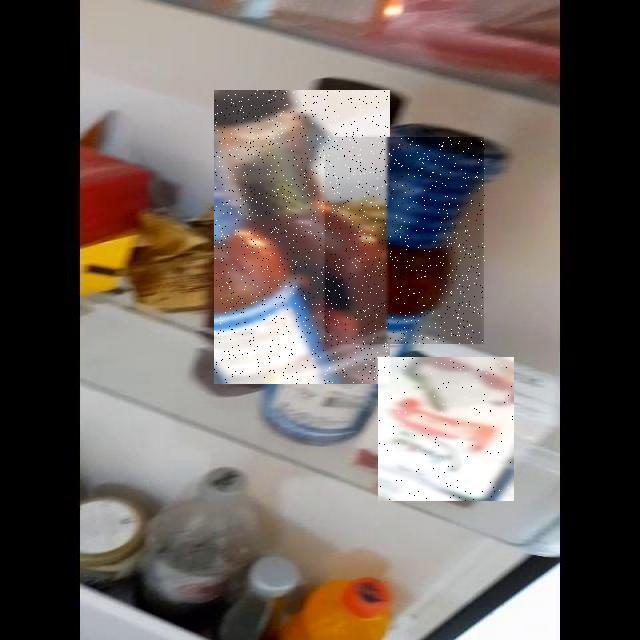Cheese: (379, 357, 515, 501)
Sauce: (215, 90, 391, 384), (326, 137, 486, 344)
